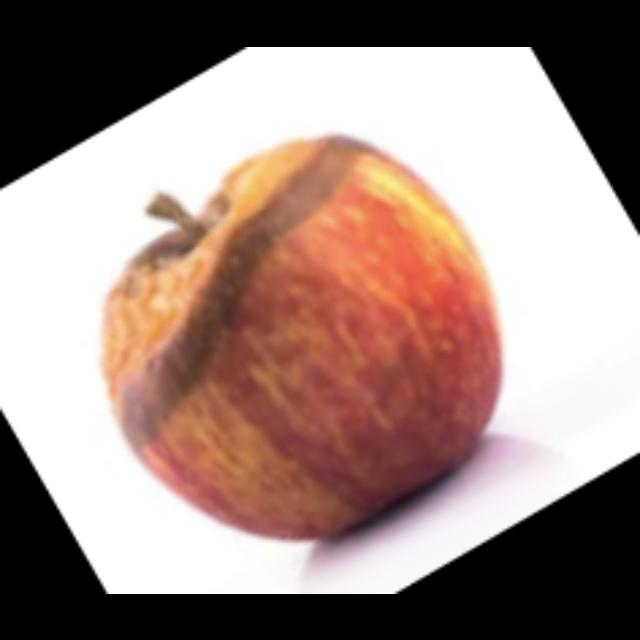Apel Tidak Segar: (49, 130, 575, 540)
